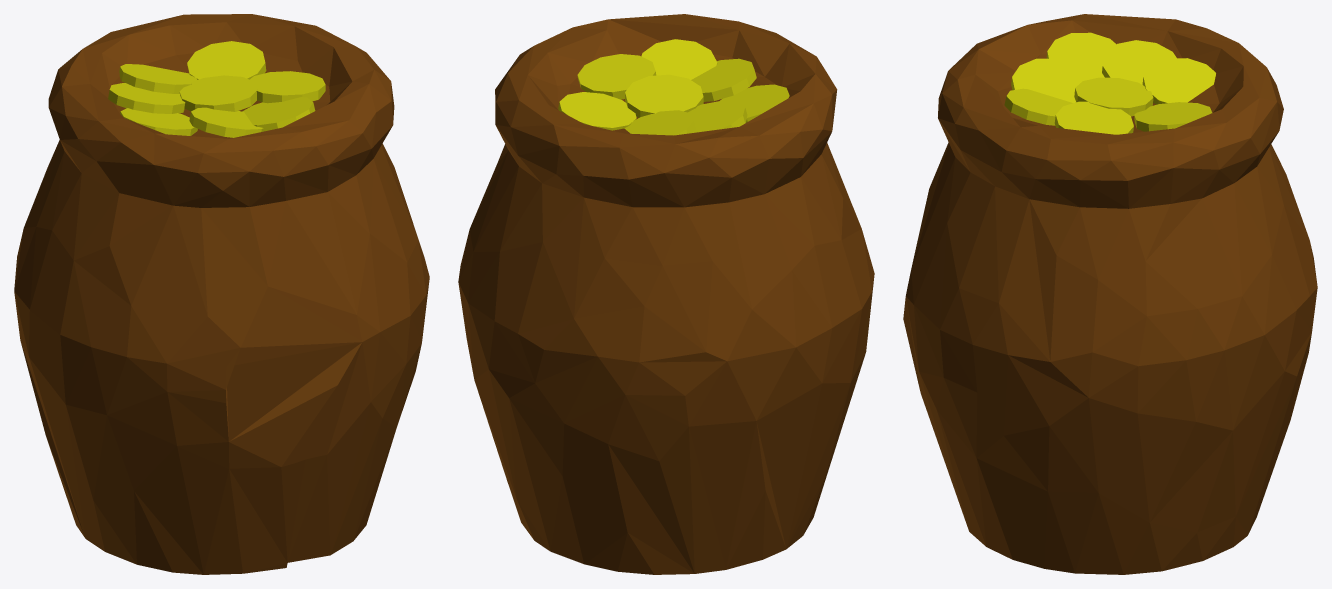
Rendered from money pot.fbx.
3 views of the same model, side by side, from view 1: azimuth 30°, elevation 25°; view 2: azimuth 150°, elevation 25°; view 3: azimuth 270°, elevation 25° (orthographic).
Visible parts, largest first — view 1: Pot, Moneys; view 2: Pot, Moneys; view 3: Pot, Moneys.
Boxes of the visible parts, x1,y1,x2,y2 form: Pot: (14,14,429,574); Moneys: (108,41,325,137); Pot: (458,14,874,574); Moneys: (558,39,789,135); Pot: (903,14,1317,574); Moneys: (1004,32,1215,134).
Size of the model in its own units: 41.64 by 48.98 by 41.86.
